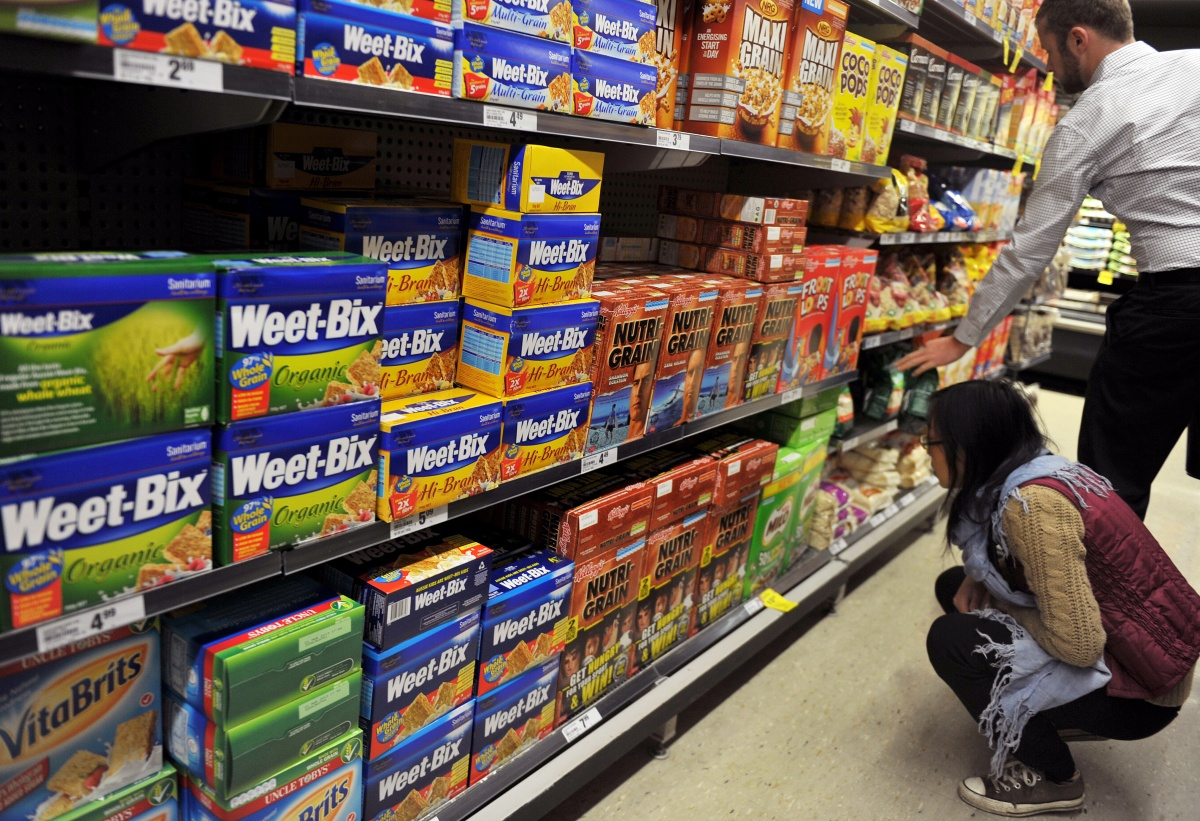cereal: (727, 6, 786, 151), (790, 15, 847, 162), (830, 252, 884, 382), (788, 254, 838, 384), (830, 36, 879, 163)
